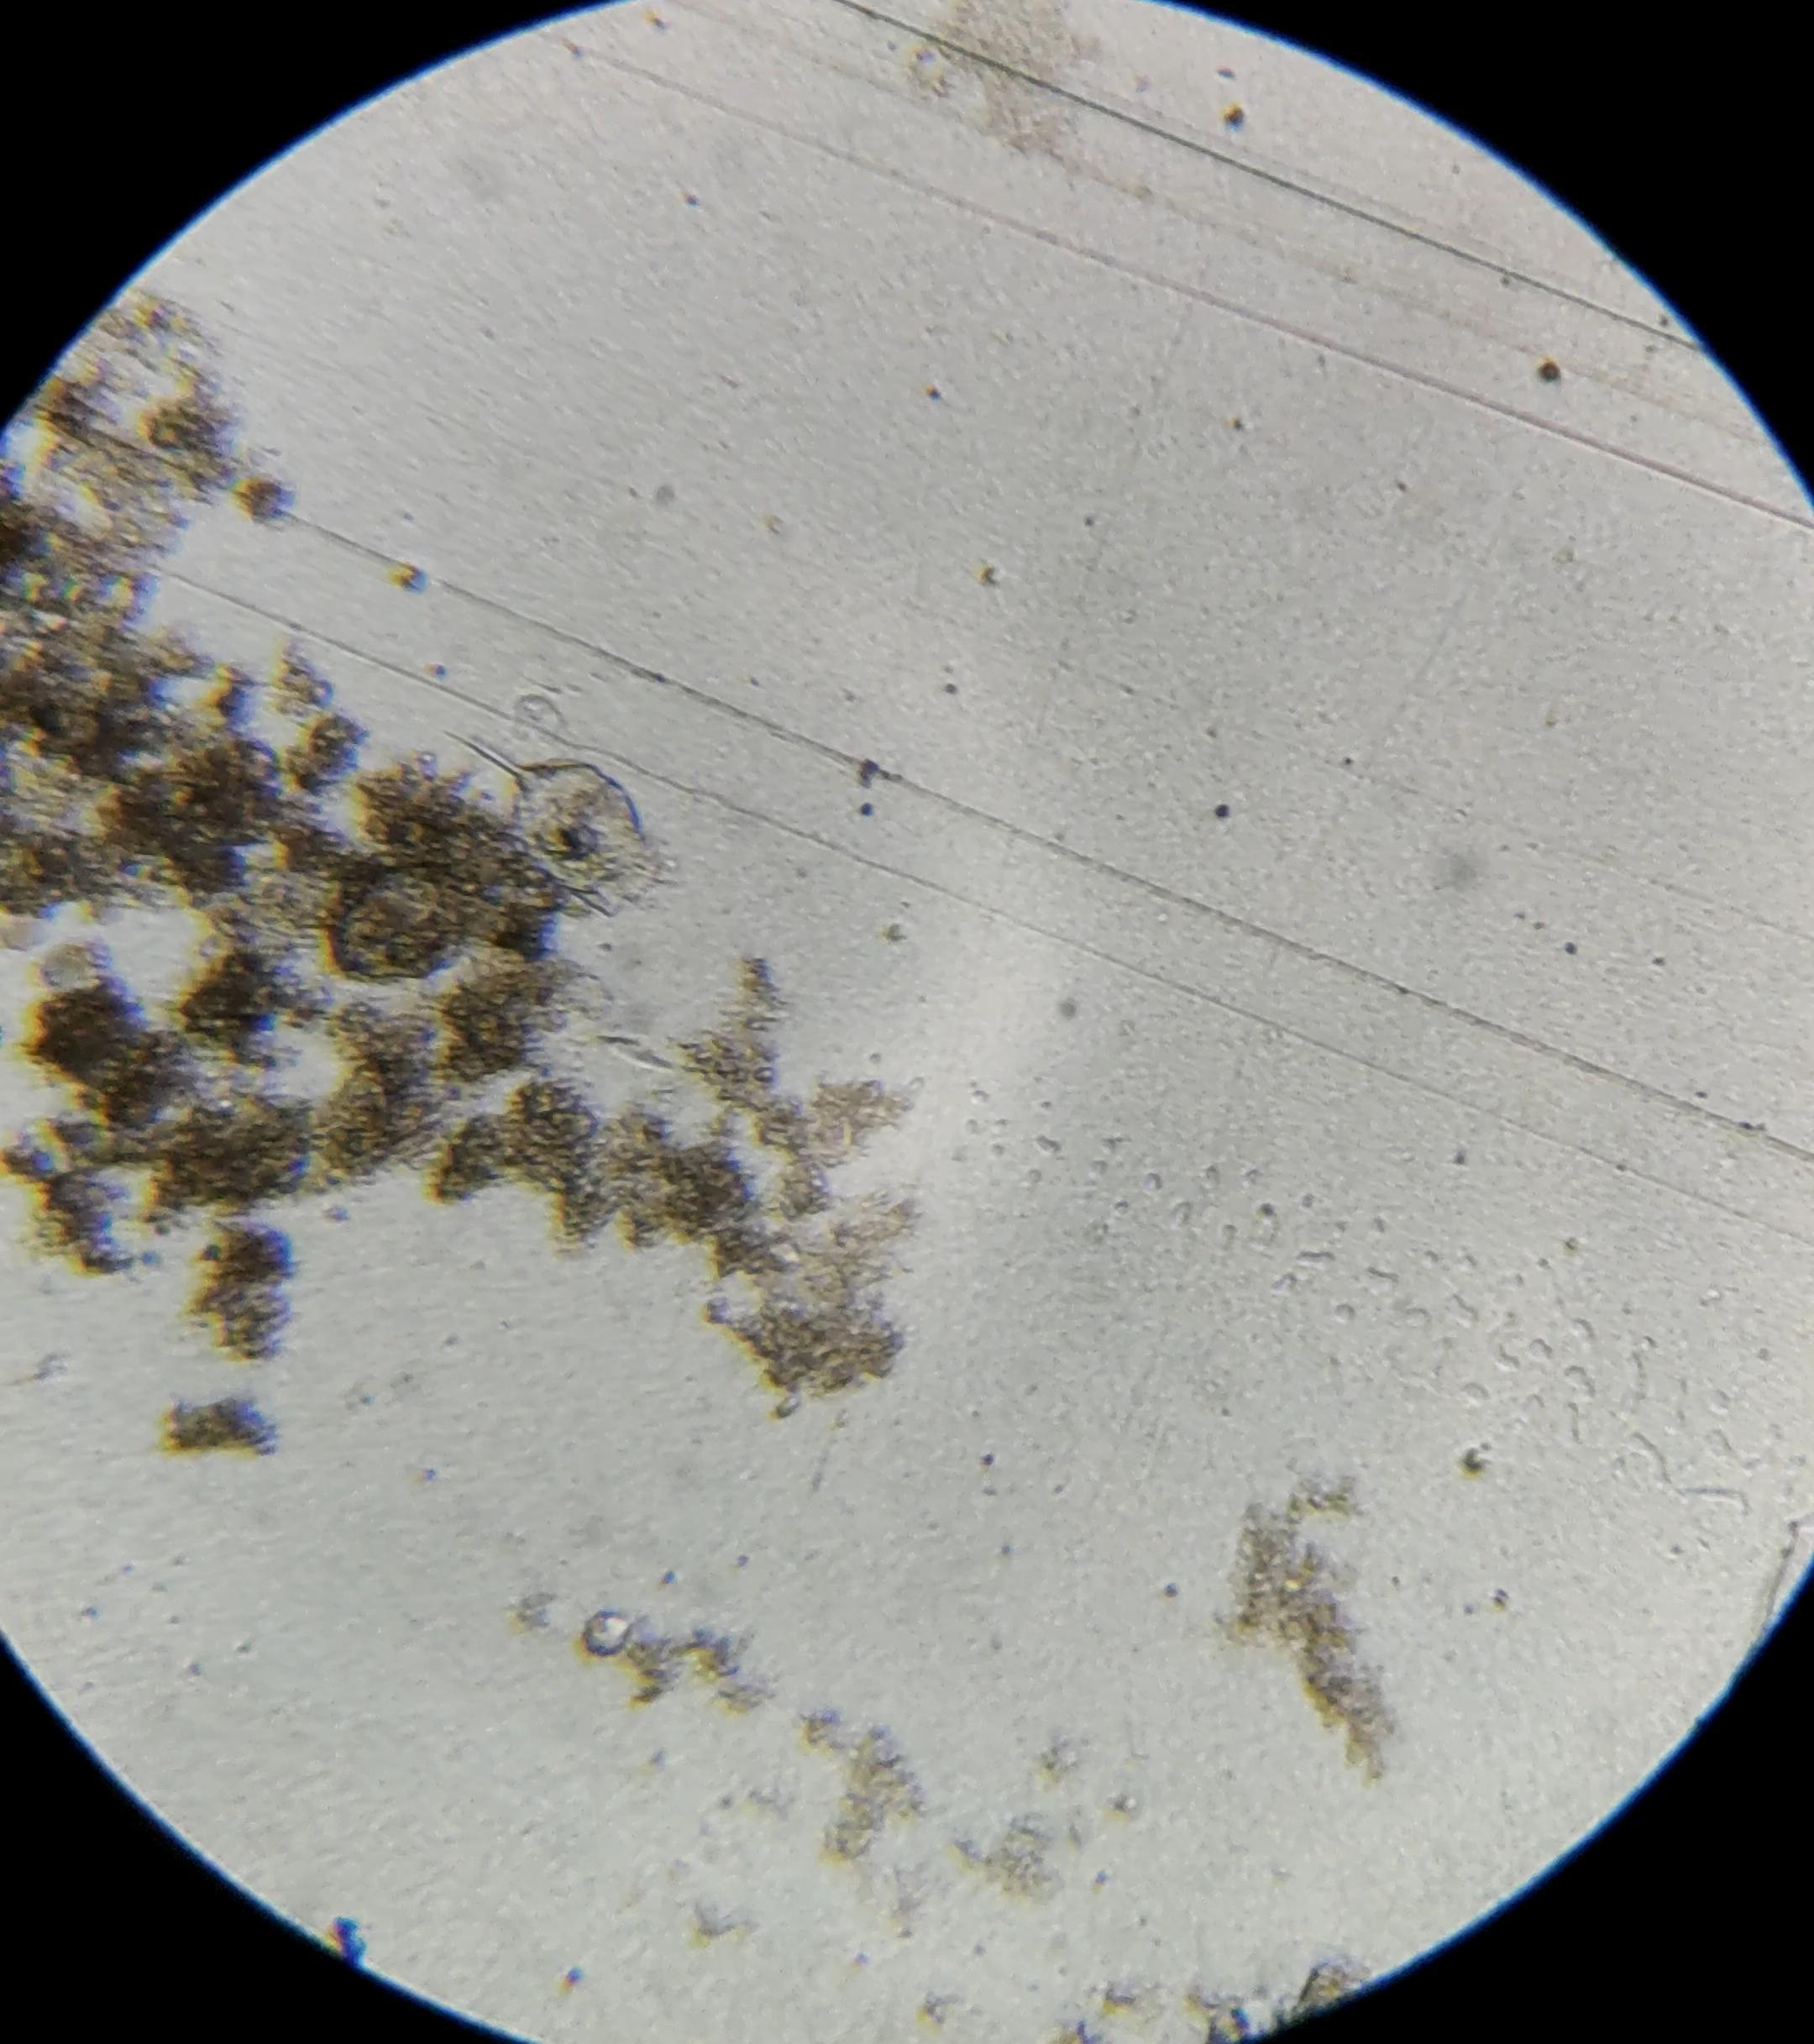Mo: (441, 725, 658, 916)
